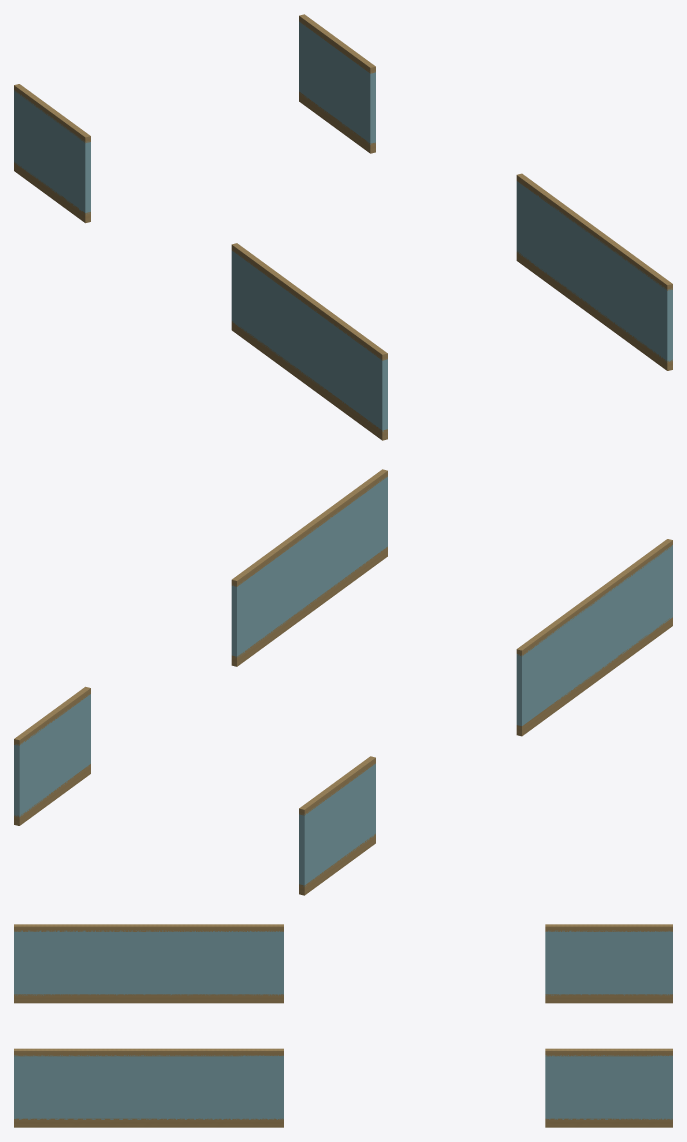
The model's file is D04_PORT_FORWARD_HOMES_THIRD_GUARDS_r001.glb.
3 renders of one model, top to bottom at view 1: azimuth 30°, elevation 25°; view 2: azimuth 150°, elevation 25°; view 3: azimuth 270°, elevation 25°, orthographic. The views are drawn at different scales.
Parts seen in each view (by area): view 1: D04H3_Guard_1_1, D04H3_Guard_4_1, D04H3_Guard_4_0, D04H3_Guard_1_0, D04H3_Guard_6_1, D04H3_Guard_3_1, D04H3_Guard_5_1, D04H3_Guard_2_1, D04H3_Guard_3_0, D04H3_Guard_6_0, D04H3_Guard_2_0, D04H3_Guard_5_0; view 2: D04H3_Guard_4_1, D04H3_Guard_1_1, D04H3_Guard_1_0, D04H3_Guard_4_0, D04H3_Guard_3_1, D04H3_Guard_6_1, D04H3_Guard_2_1, D04H3_Guard_5_1, D04H3_Guard_6_0, D04H3_Guard_3_0, D04H3_Guard_5_0, D04H3_Guard_2_0; view 3: D04H3_Guard_4_1, D04H3_Guard_1_1, D04H3_Guard_1_0, D04H3_Guard_4_0, D04H3_Guard_5_1, D04H3_Guard_2_1, D04H3_Guard_3_1, D04H3_Guard_6_1, D04H3_Guard_5_0, D04H3_Guard_2_0, D04H3_Guard_3_0, D04H3_Guard_6_0.
Part boxes in pixels (box(x1,y1,x2,y2)): D04H3_Guard_1_1: box(516, 181, 672, 362); D04H3_Guard_4_1: box(231, 250, 387, 431); D04H3_Guard_4_0: box(14, 90, 90, 214); D04H3_Guard_1_0: box(299, 21, 375, 144); D04H3_Guard_6_1: box(231, 243, 387, 360); D04H3_Guard_3_1: box(516, 173, 672, 290); D04H3_Guard_5_1: box(231, 321, 387, 440); D04H3_Guard_2_1: box(516, 251, 672, 370); D04H3_Guard_3_0: box(299, 14, 375, 73); D04H3_Guard_6_0: box(14, 84, 90, 143); D04H3_Guard_2_0: box(299, 91, 375, 153); D04H3_Guard_5_0: box(14, 162, 90, 223); D04H3_Guard_4_1: box(516, 545, 672, 725); D04H3_Guard_1_1: box(231, 476, 387, 657); D04H3_Guard_1_0: box(14, 694, 90, 817); D04H3_Guard_4_0: box(299, 763, 375, 886); D04H3_Guard_3_1: box(231, 469, 387, 586); D04H3_Guard_6_1: box(516, 539, 672, 656); D04H3_Guard_2_1: box(231, 546, 387, 666); D04H3_Guard_5_1: box(516, 617, 672, 736); D04H3_Guard_6_0: box(299, 756, 375, 815); D04H3_Guard_3_0: box(14, 686, 90, 745); D04H3_Guard_5_0: box(299, 833, 375, 895); D04H3_Guard_2_0: box(14, 764, 90, 825); D04H3_Guard_4_1: box(14, 930, 283, 995); D04H3_Guard_1_1: box(14, 1055, 283, 1119); D04H3_Guard_1_0: box(545, 1055, 672, 1119); D04H3_Guard_4_0: box(545, 930, 672, 995); D04H3_Guard_5_1: box(14, 994, 283, 1003); D04H3_Guard_2_1: box(14, 1118, 283, 1127); D04H3_Guard_3_1: box(14, 1048, 283, 1056); D04H3_Guard_6_1: box(14, 924, 283, 931); D04H3_Guard_5_0: box(545, 994, 672, 1003); D04H3_Guard_2_0: box(545, 1118, 672, 1127); D04H3_Guard_3_0: box(545, 1048, 672, 1056); D04H3_Guard_6_0: box(545, 924, 672, 931).
Bounding box in the file's own units: 4.18 × 1.18 × 9.18.
Materials: 2 (1 with a texture image).
